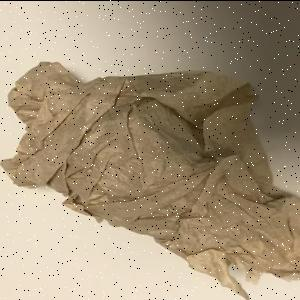Trash: (2, 62, 300, 300)
